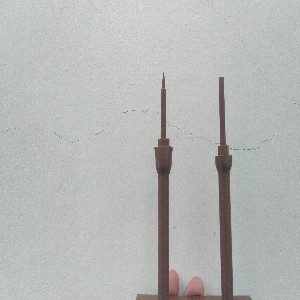obeng: (214, 77, 234, 300)
solder: (153, 71, 174, 300)
